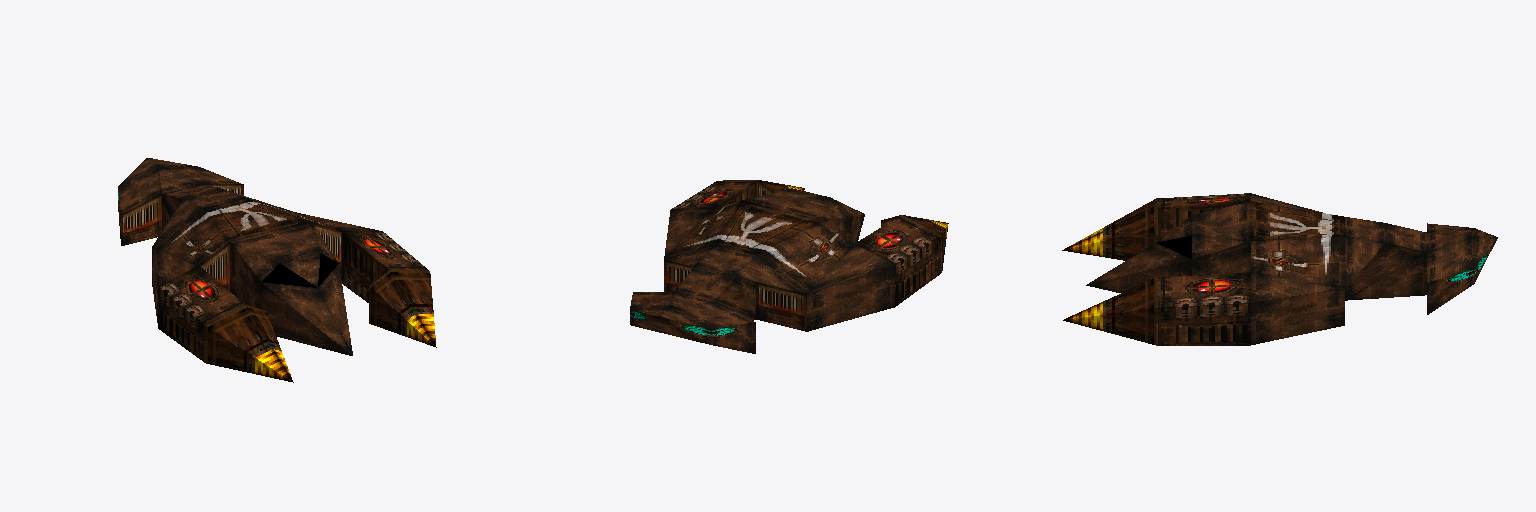
3 renders of one model, left to right at view 1: azimuth 30°, elevation 25°; view 2: azimuth 150°, elevation 25°; view 3: azimuth 270°, elevation 25°, orthographic.
Visible parts, largest first — view 1: default; view 2: default; view 3: default.
Boxes of the visible parts, box(x1,y1,x2,y2) form: default: box(118, 158, 436, 382); default: box(630, 180, 948, 353); default: box(1062, 193, 1497, 345).
Bounding box in the file's own units: 4.4 × 1.3 × 7.4.
Materials: 3 (2 with a texture image).